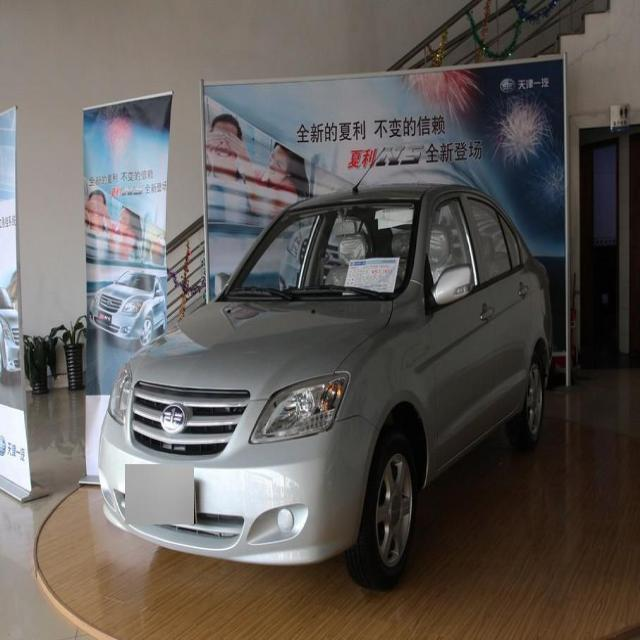door: (462, 195, 536, 408)
front_bumper: (97, 411, 380, 565)
front_glass: (221, 196, 421, 301)
front_left_side_door: (416, 181, 498, 468)
front_left_side_light: (245, 367, 352, 447)
front_left_side_mirror: (430, 258, 476, 310)
front_right_side_light: (106, 358, 134, 429)
wheel: (348, 429, 415, 593)
